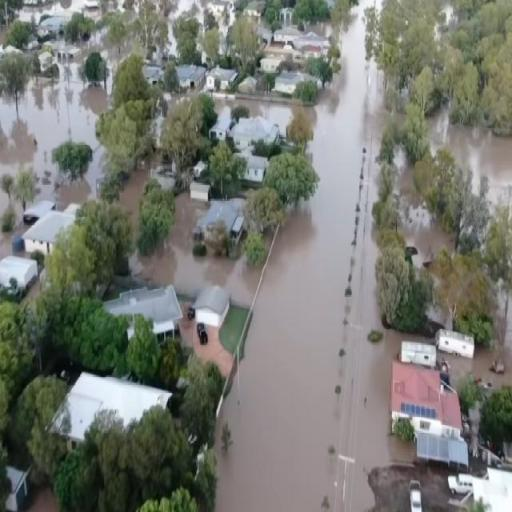flood: (122, 0, 423, 512), (0, 58, 111, 208), (430, 108, 512, 205), (442, 295, 512, 388), (401, 192, 450, 265), (19, 0, 86, 20), (175, 0, 207, 15), (169, 30, 175, 54), (0, 26, 6, 43), (169, 14, 174, 28)
house: (391, 356, 474, 470), (0, 252, 38, 306), (201, 200, 245, 246), (194, 284, 232, 328), (154, 284, 182, 340), (396, 337, 441, 371), (25, 210, 57, 255), (436, 328, 478, 358), (173, 61, 207, 96), (206, 62, 239, 94), (233, 122, 253, 150), (246, 156, 268, 181), (212, 118, 232, 143), (190, 180, 210, 201), (274, 26, 298, 43)
